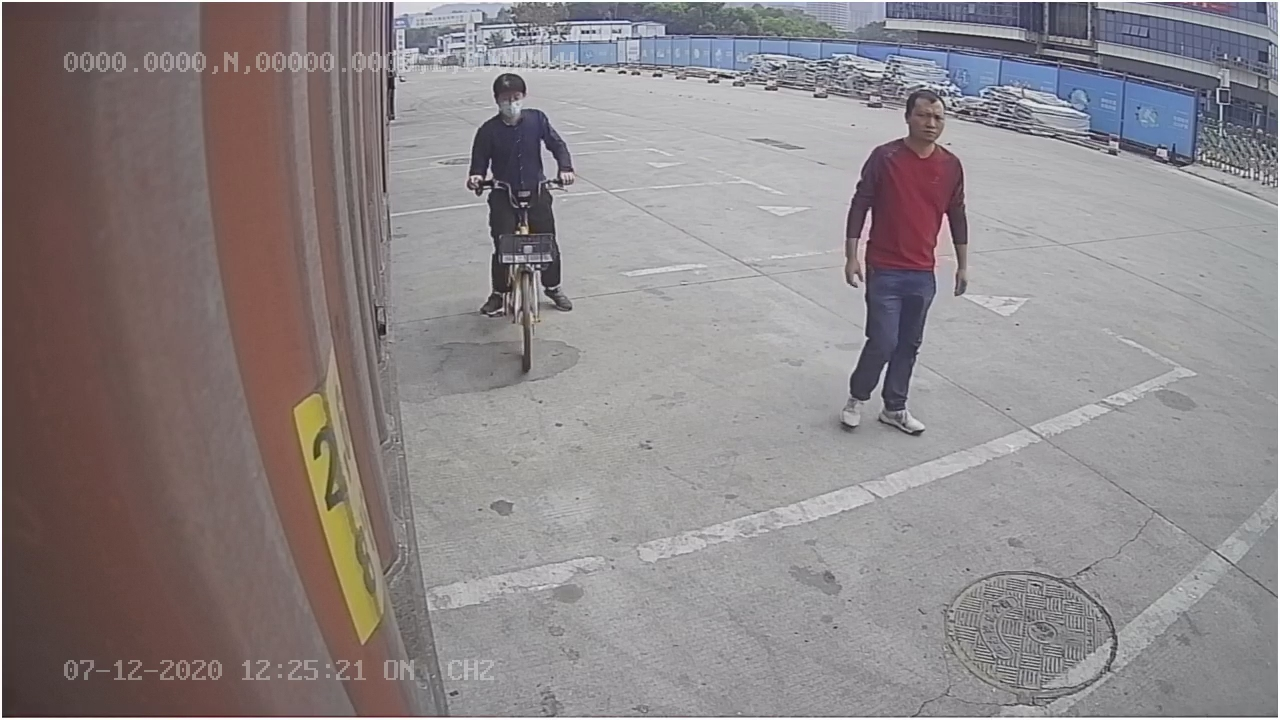person: (831, 84, 972, 439)
